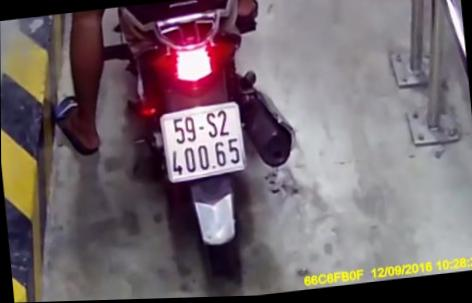LP: (156, 99, 250, 185)
